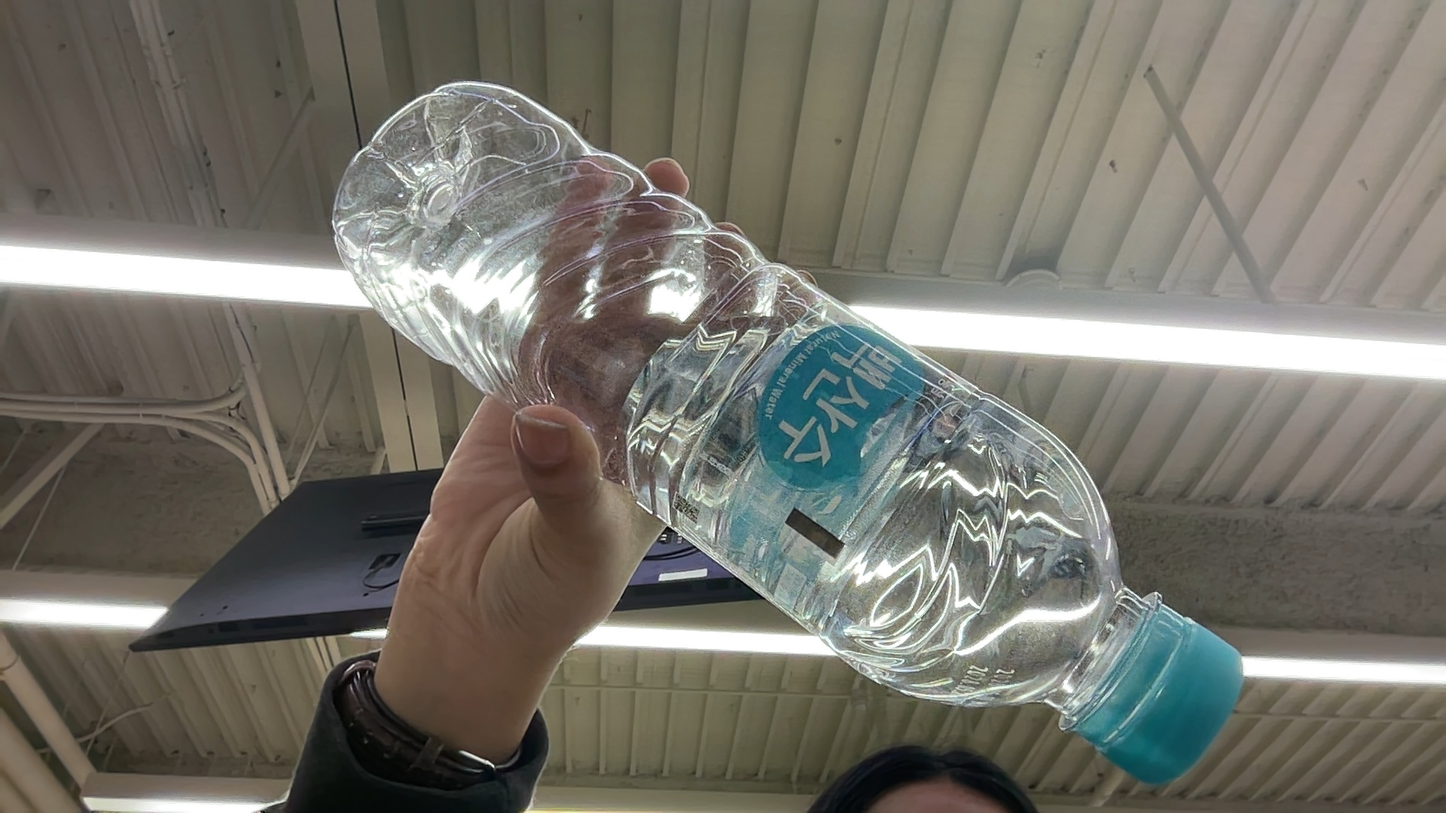Plastic: (316, 76, 1195, 774)
